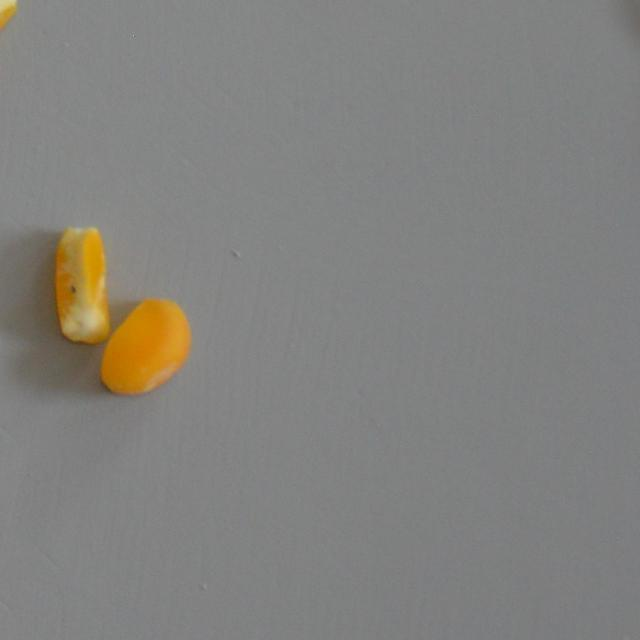dañado: (0, 0, 18, 87)
estandar: (106, 292, 185, 406)
punto_negro: (52, 224, 112, 345)
